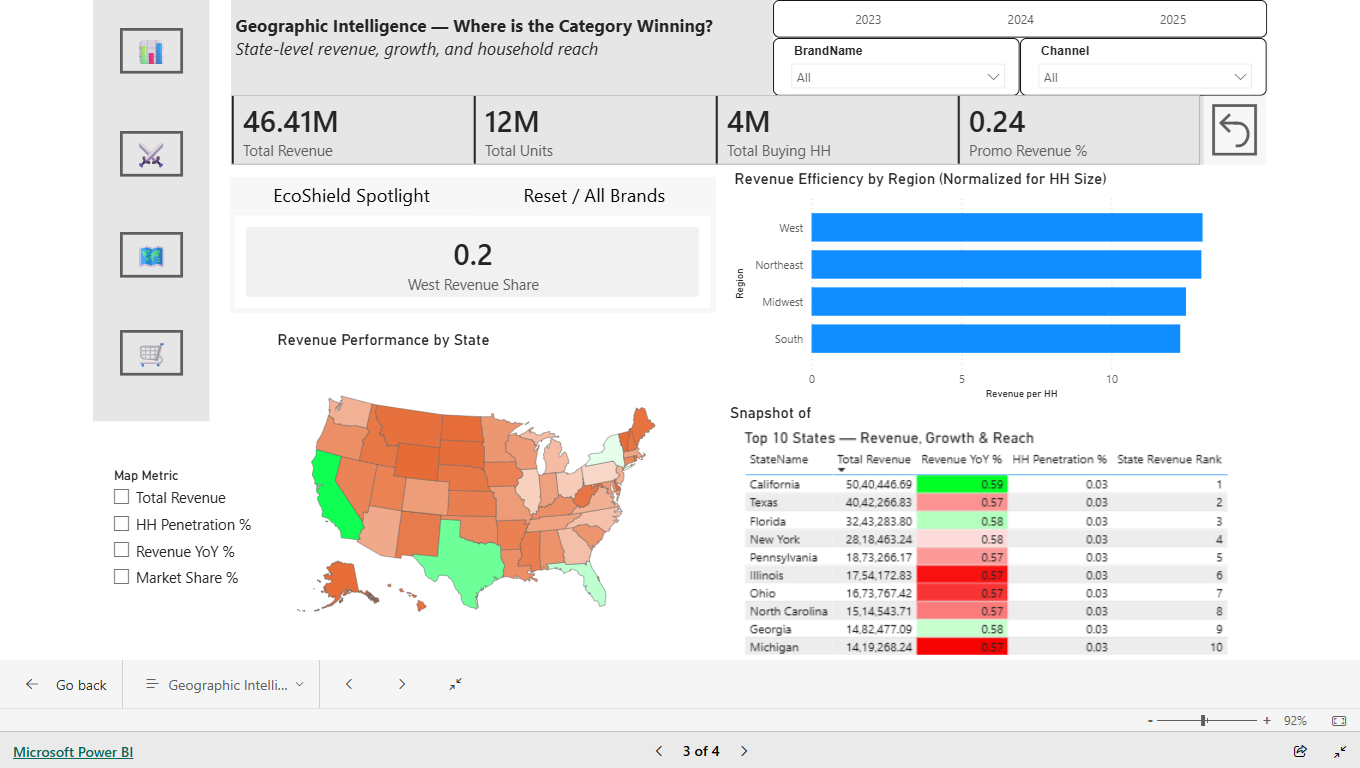

This screenshot's page, from the dashboard's own definition file:
{"tool":"powerbi","page":{"name":"Geographic Intelligence","canvas":[1280,720],"ordinal":2},"visuals":[{"type":"shape","box":[0,0,127.3,459.5],"z":0},{"type":"slicer","fields":{"Values":["Dim_Channel.Dim_Channel"]},"box":[1011.2,41,269.3,62.9],"z":1000},{"type":"slicer","fields":{"Values":["Map Metric.Map Metric"]},"box":[10.2,504.9,185.9,177.1],"z":2000},{"type":"shapeMap","title":"Revenue Performance by State","fields":{"Value":["_Measures.Total Revenue"],"Category":["Dim_Geography.StateName"]},"box":[196.1,360,443.4,360],"z":3000},{"type":"barChart","title":"Revenue Efficiency by Region (Normalized for HH Size)","fields":{"Y":["_Measures.Revenue per HH"],"Category":["Dim_Geography.Region"]},"box":[695.1,184.4,559,256.1],"z":4000},{"type":"cardVisual","fields":{"Data":["_Measures.West Revenue Share"]},"box":[149.3,229.8,529.8,111.2],"z":6000},{"type":"slicer","fields":{"Values":["Dim_Brand.BrandName"]},"box":[742,41,269.3,62.9],"z":7000},{"type":"actionButton","title":"EcoShield Spotlight","box":[149.9,192.9,265.3,36.2],"z":8000},{"type":"actionButton","title":"EcoShield Spotlight","box":[414.1,193.2,264.9,36.6],"z":9000},{"type":"cardVisual","fields":{"Data":["_Measures.Total Revenue","_Measures.Total Units","_Measures.Total Buying HH","_Measures.Promo Revenue %"]},"box":[150.7,103.9,1061,76.1],"z":10000},{"type":"slicer","fields":{"Values":["Dim_Date.Year"]},"box":[741.5,0,538.5,41],"z":11000},{"type":"actionButton","box":[1211.2,103.9,68.8,76.1],"z":12000},{"type":"textbox","box":[150.7,0,591.2,103.9],"z":13000},{"type":"actionButton","title":"Overview","box":[29.3,30.7,68.8,49.8],"z":14000},{"type":"actionButton","box":[29.3,143.4,68.8,49.8],"z":15000},{"type":"actionButton","box":[29.3,253.2,68.8,49.8],"z":16000},{"type":"actionButton","box":[29.3,360,68.8,49.8],"z":17000},{"type":"image","title":"Snapshot of","box":[695,440,559,280],"z":17001}]}

Visuals, with their boxes on the page's 1280x720 design canvas (x1, y1, x2, y2). These are canvas units, not pixel positions in the 1360x768 screenshot, which may show the page scaled, cropped or inside an application window:
shape: region(0, 0, 127, 460)
slicer - Dim_Channel.Dim_Channel: region(1011, 41, 1280, 104)
slicer - Map Metric.Map Metric: region(10, 505, 196, 682)
"Revenue Performance by State" shapeMap: region(196, 360, 640, 720)
"Revenue Efficiency by Region (Normalized for HH Size)" barChart: region(695, 184, 1254, 440)
cardVisual - _Measures.West Revenue Share: region(149, 230, 679, 341)
slicer - Dim_Brand.BrandName: region(742, 41, 1011, 104)
"EcoShield Spotlight" actionButton: region(150, 193, 415, 229)
"EcoShield Spotlight" actionButton: region(414, 193, 679, 230)
cardVisual - _Measures.Total Revenue x _Measures.Total Units: region(151, 104, 1212, 180)
slicer - Dim_Date.Year: region(742, 0, 1280, 41)
actionButton: region(1211, 104, 1280, 180)
textbox: region(151, 0, 742, 104)
"Overview" actionButton: region(29, 31, 98, 80)
actionButton: region(29, 143, 98, 193)
actionButton: region(29, 253, 98, 303)
actionButton: region(29, 360, 98, 410)
"Snapshot of" image: region(695, 440, 1254, 720)
